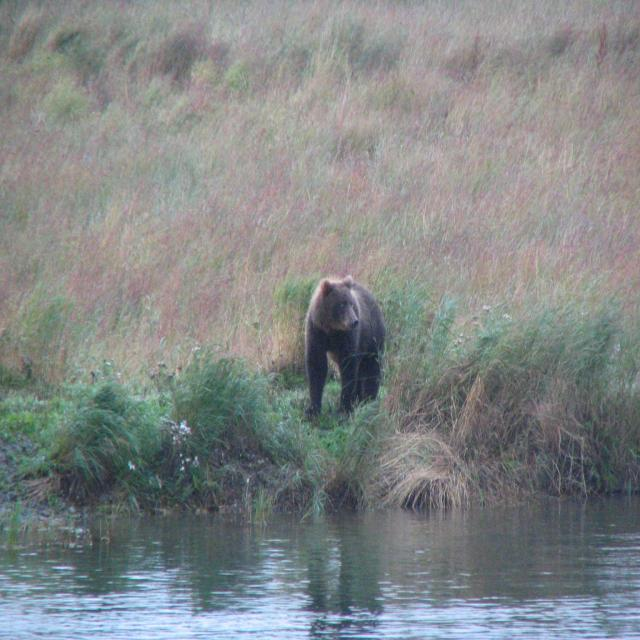bear face: (311, 278, 378, 409)
